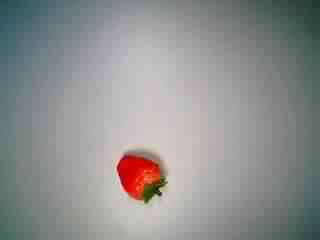strawberry: (108, 145, 174, 207)
